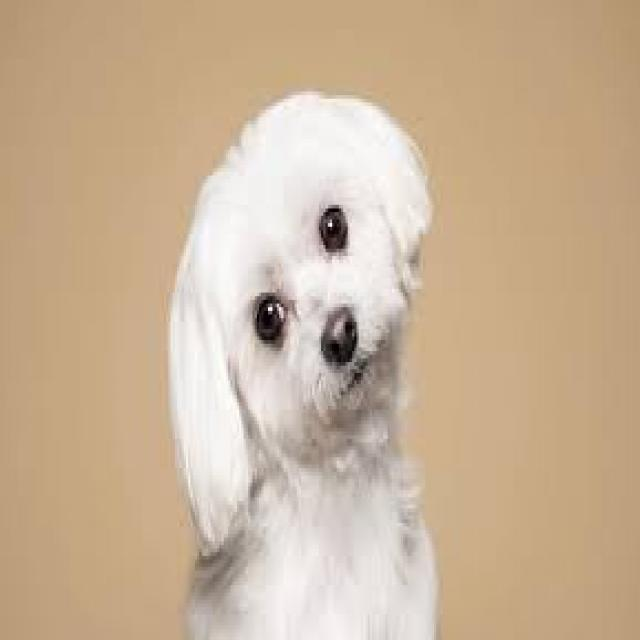dogs: (161, 86, 446, 640)
